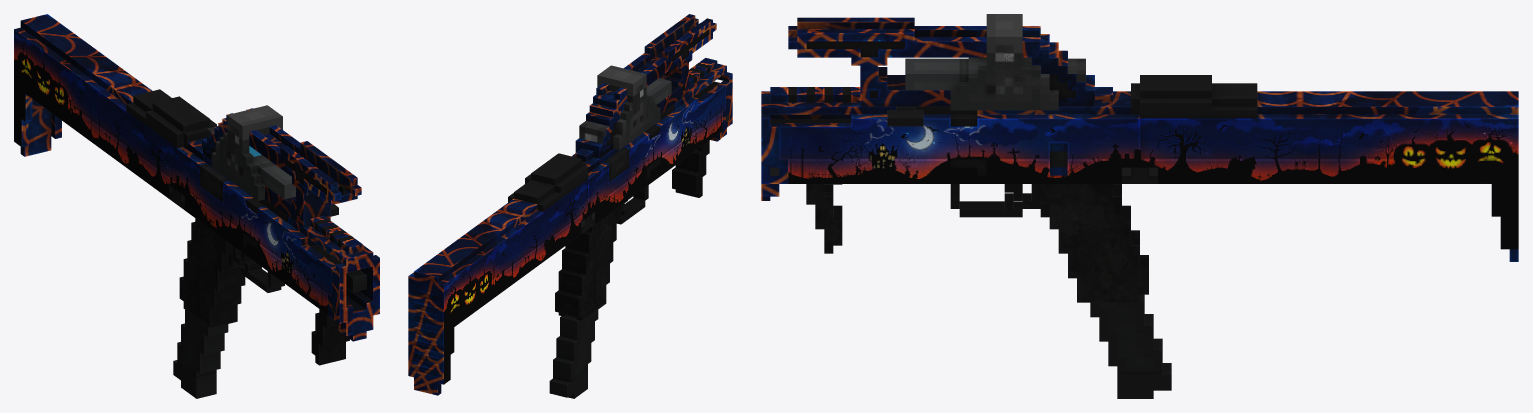
Rendered from RD_FMG9_SCARY.glb.
The picture shows the model from 3 angles, left to right: view 1: azimuth 30°, elevation 25°; view 2: azimuth 150°, elevation 25°; view 3: azimuth 270°, elevation 25°; orthographic projection. The views are drawn at different scales.
Visible parts, largest first — view 1: FMG9, FMG9_SCOPE, FMG9_CLIP, SCOPE_EOTECH, SCOPE_HOLOSUN; view 2: FMG9, FMG9_SCOPE, FMG9_CLIP, SCOPE_HOLOSUN, SCOPE_EOTECH, SCOPE_AIMPOINT; view 3: FMG9, FMG9_SCOPE, SCOPE_EOTECH, FMG9_CLIP, SCOPE_HOLOSUN, FMG9_BOLT.
Part boxes in pixels (x1=…): FMG9: x1=14, y1=14, x2=379, y2=365; FMG9_SCOPE: x1=203, y1=108, x2=361, y2=227; FMG9_CLIP: x1=173, y1=309, x2=228, y2=398; SCOPE_EOTECH: x1=219, y1=127, x2=295, y2=200; SCOPE_HOLOSUN: x1=211, y1=105, x2=282, y2=171; FMG9: x1=408, y1=58, x2=732, y2=395; FMG9_SCOPE: x1=575, y1=14, x2=716, y2=158; FMG9_CLIP: x1=549, y1=310, x2=598, y2=398; SCOPE_HOLOSUN: x1=597, y1=65, x2=646, y2=150; SCOPE_EOTECH: x1=620, y1=78, x2=671, y2=136; SCOPE_AIMPOINT: x1=579, y1=84, x2=639, y2=143; FMG9: x1=761, y1=75, x2=1518, y2=302; FMG9_SCOPE: x1=788, y1=17, x2=1094, y2=106; SCOPE_EOTECH: x1=905, y1=53, x2=1040, y2=110; FMG9_CLIP: x1=1090, y1=294, x2=1171, y2=398; SCOPE_HOLOSUN: x1=986, y1=14, x2=1058, y2=110; FMG9_BOLT: x1=887, y1=106, x2=923, y2=126.
Size of the model in its own units: 0.0787 by 0.4428 by 0.8266.
Materials: 7 (7 with a texture image).
